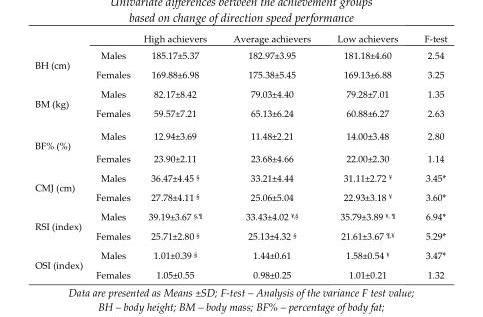table: (34, 34, 446, 280)
table column: (219, 34, 323, 280), (323, 34, 410, 280), (136, 34, 219, 280), (34, 34, 88, 280), (88, 34, 136, 280), (410, 34, 446, 280)
table column header: (34, 34, 446, 47)
table row: (34, 125, 446, 147), (34, 104, 446, 125), (34, 147, 446, 168), (34, 84, 446, 104), (34, 168, 446, 188), (34, 226, 446, 246), (34, 65, 446, 84), (34, 188, 446, 207), (34, 207, 446, 226), (34, 246, 446, 265), (34, 47, 446, 65), (34, 265, 446, 280), (34, 34, 446, 47)
table spanning cell: (34, 125, 88, 168), (34, 84, 88, 125), (34, 168, 88, 207), (34, 207, 88, 246), (34, 47, 88, 84), (34, 246, 88, 280)
